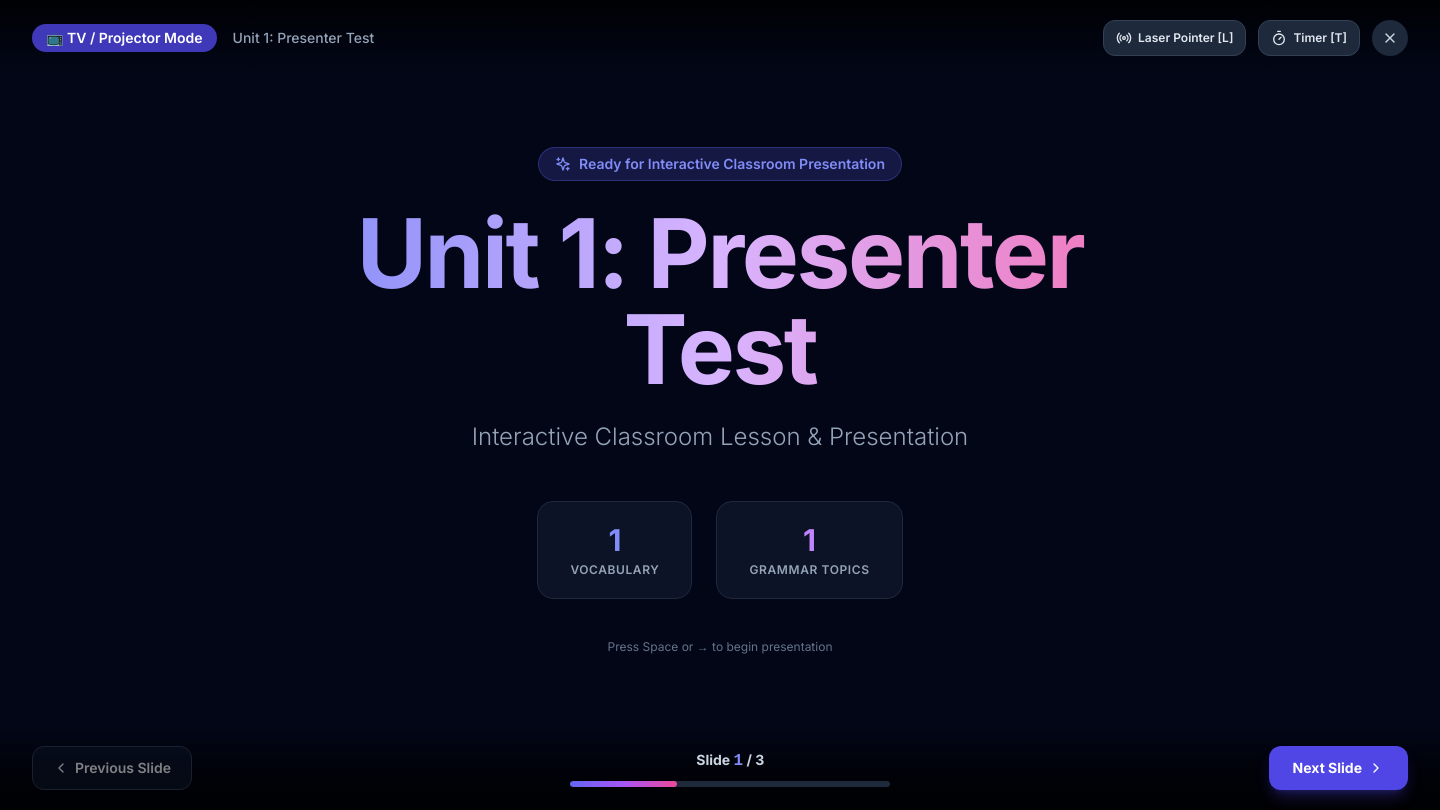
Test: ClassroomPresenter Component › renders title slide initially and allows navigating to vocab slide
expect the text "Unit 1: Presenter Test" is shown: met, box [233,28,374,48]
expect the text "📺 TV / Projector Mode" is shown: met, box [32,24,217,52]
// Click Next slide
Click the button "Next Slide". click: (1338, 768)
box: [1269,746,1408,790]
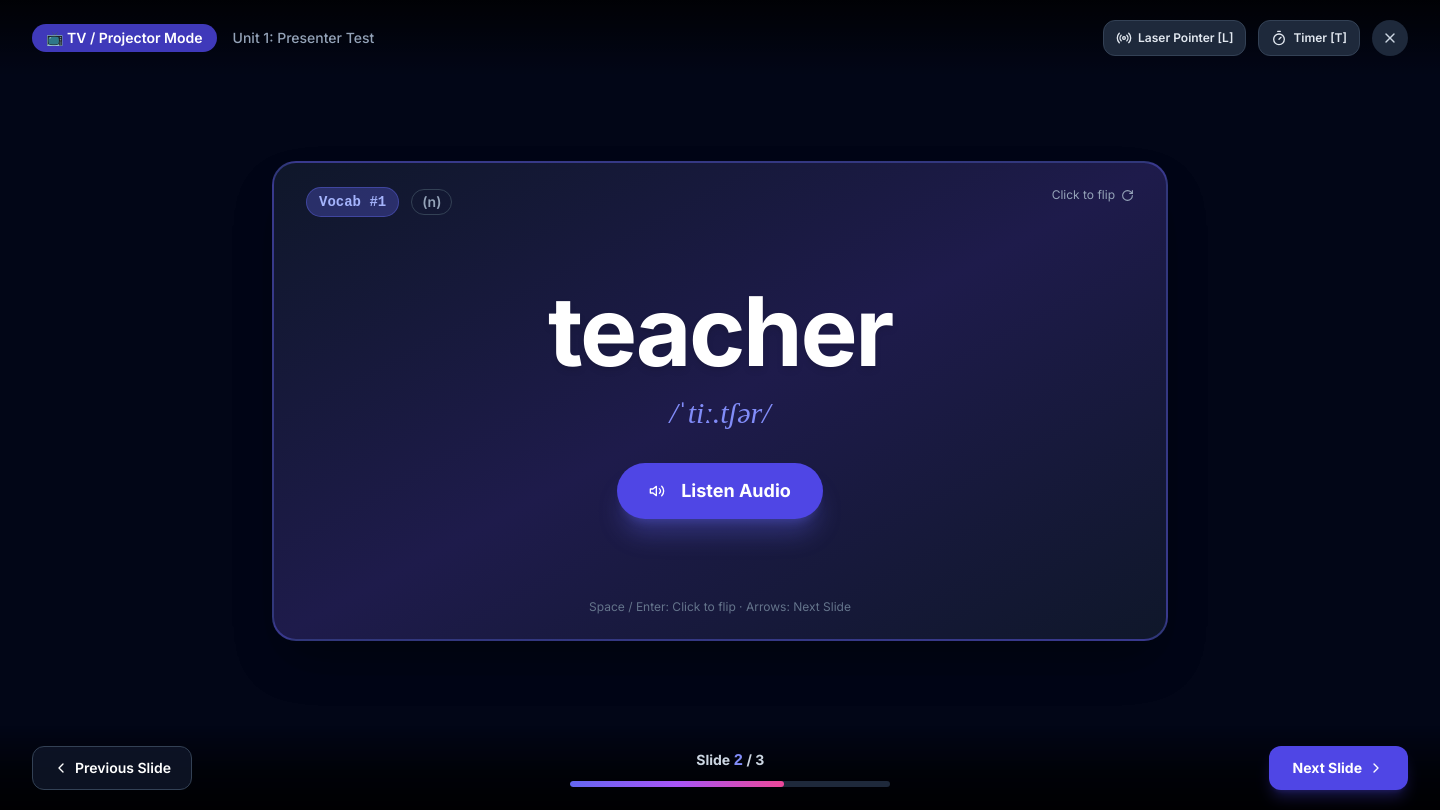
expect the heading "teacher" is shown: met, box [548,283,892,379]
